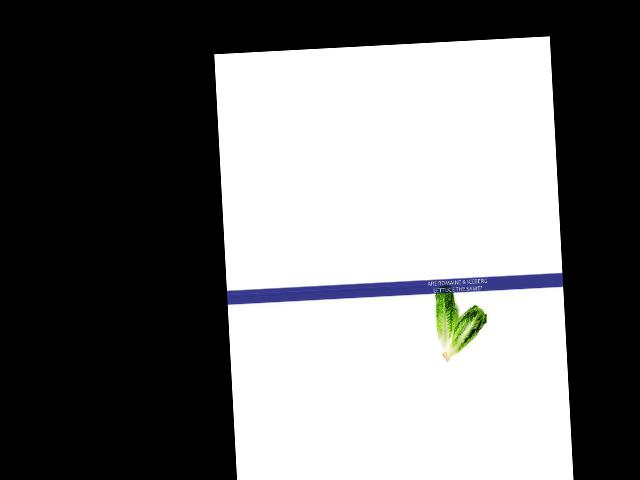lettuce: (440, 301, 487, 368)
